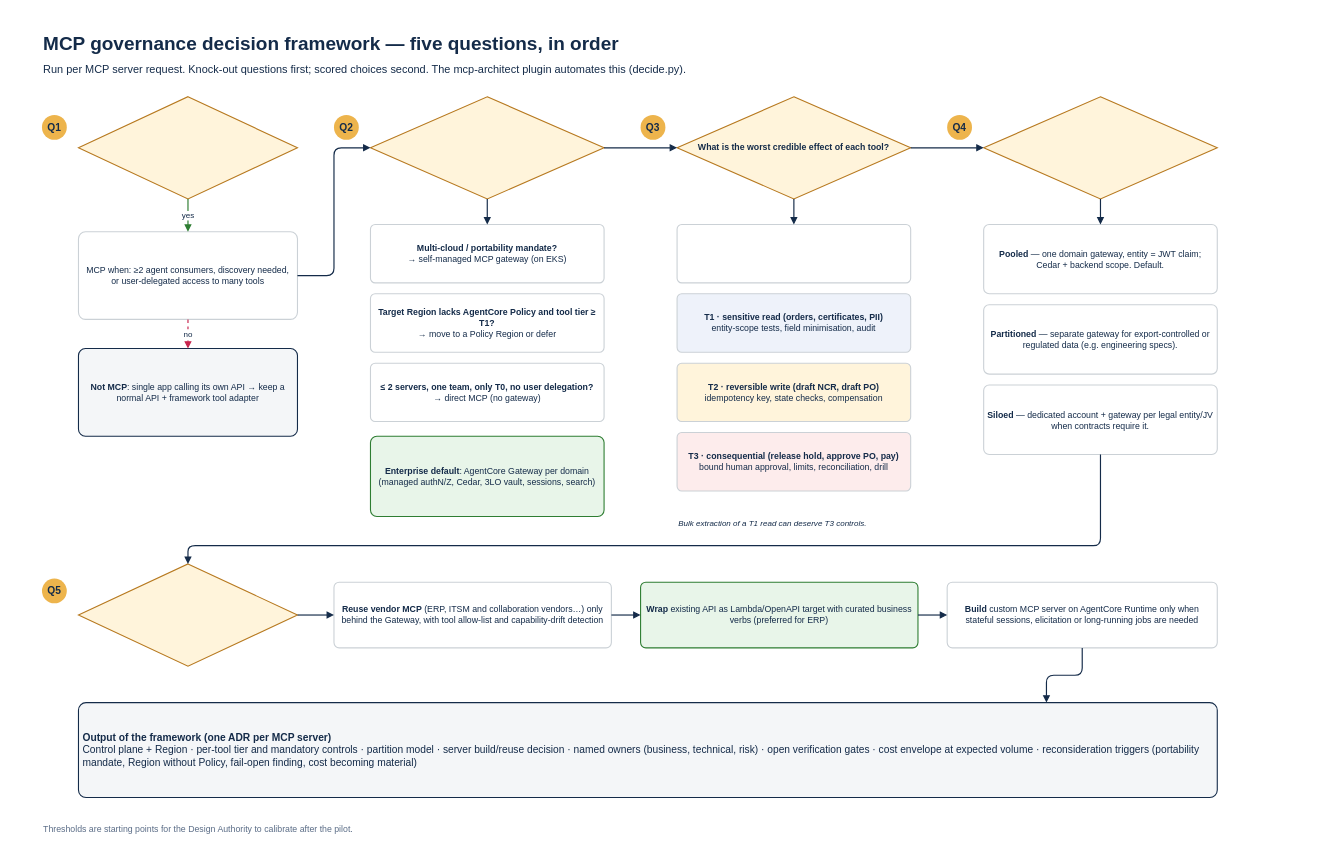
This 1339x864 diagram has some shape labels left out. The shapes that lost their labels are listed below. From the top down, each one's box as (x1, y1, x2, y2) in pixels, then its label:
(78, 96, 298, 199): Should this be MCP at all?
(370, 96, 604, 199): Which control plane? (knock-outs first)
(983, 96, 1217, 199): How strongly must entities / plants be isolated?
(676, 224, 911, 283): T0 · public / reference read schema review, response caps
(78, 563, 298, 666): Build, reuse or wrap the MCP server?
